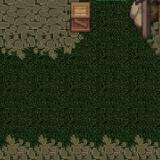Hide: (59, 0, 101, 41)
Obstacle: (126, 0, 160, 84)
